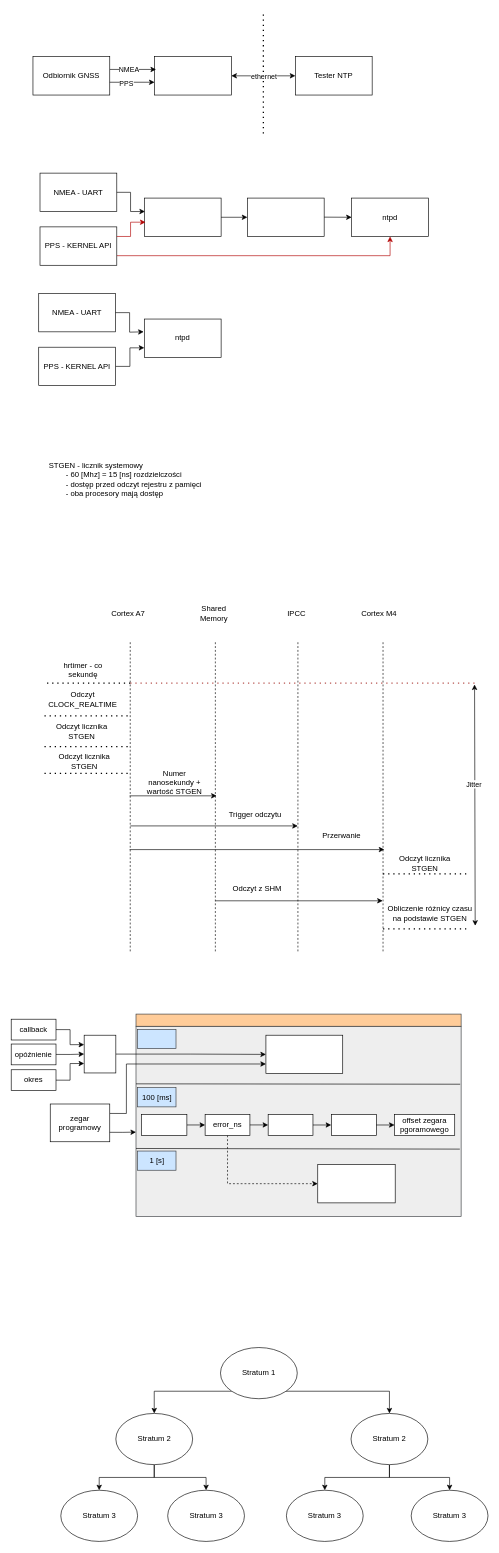
Some shapes in this 499 by 1553 pixel diagram are drawn without their labels. The shapes that lost their labels are listed below. From the top down, each one's centre as x and y in pixels, then its label:
At point (192, 75): "STM32".
At point (182, 216): "gpsd".
At point (285, 216): "SHM".
At point (156, 1039): "while (1)".
At point (298, 1019): "main loop".
At point (100, 1054): "task".
At point (304, 1054): "scheduler".
At point (164, 1124): "odczyt SHM".
At point (290, 1124): "filtr".
At point (353, 1124): "regulator PI".
At point (356, 1183): "wysłka zmierzonych wartości przez remoteproc".
